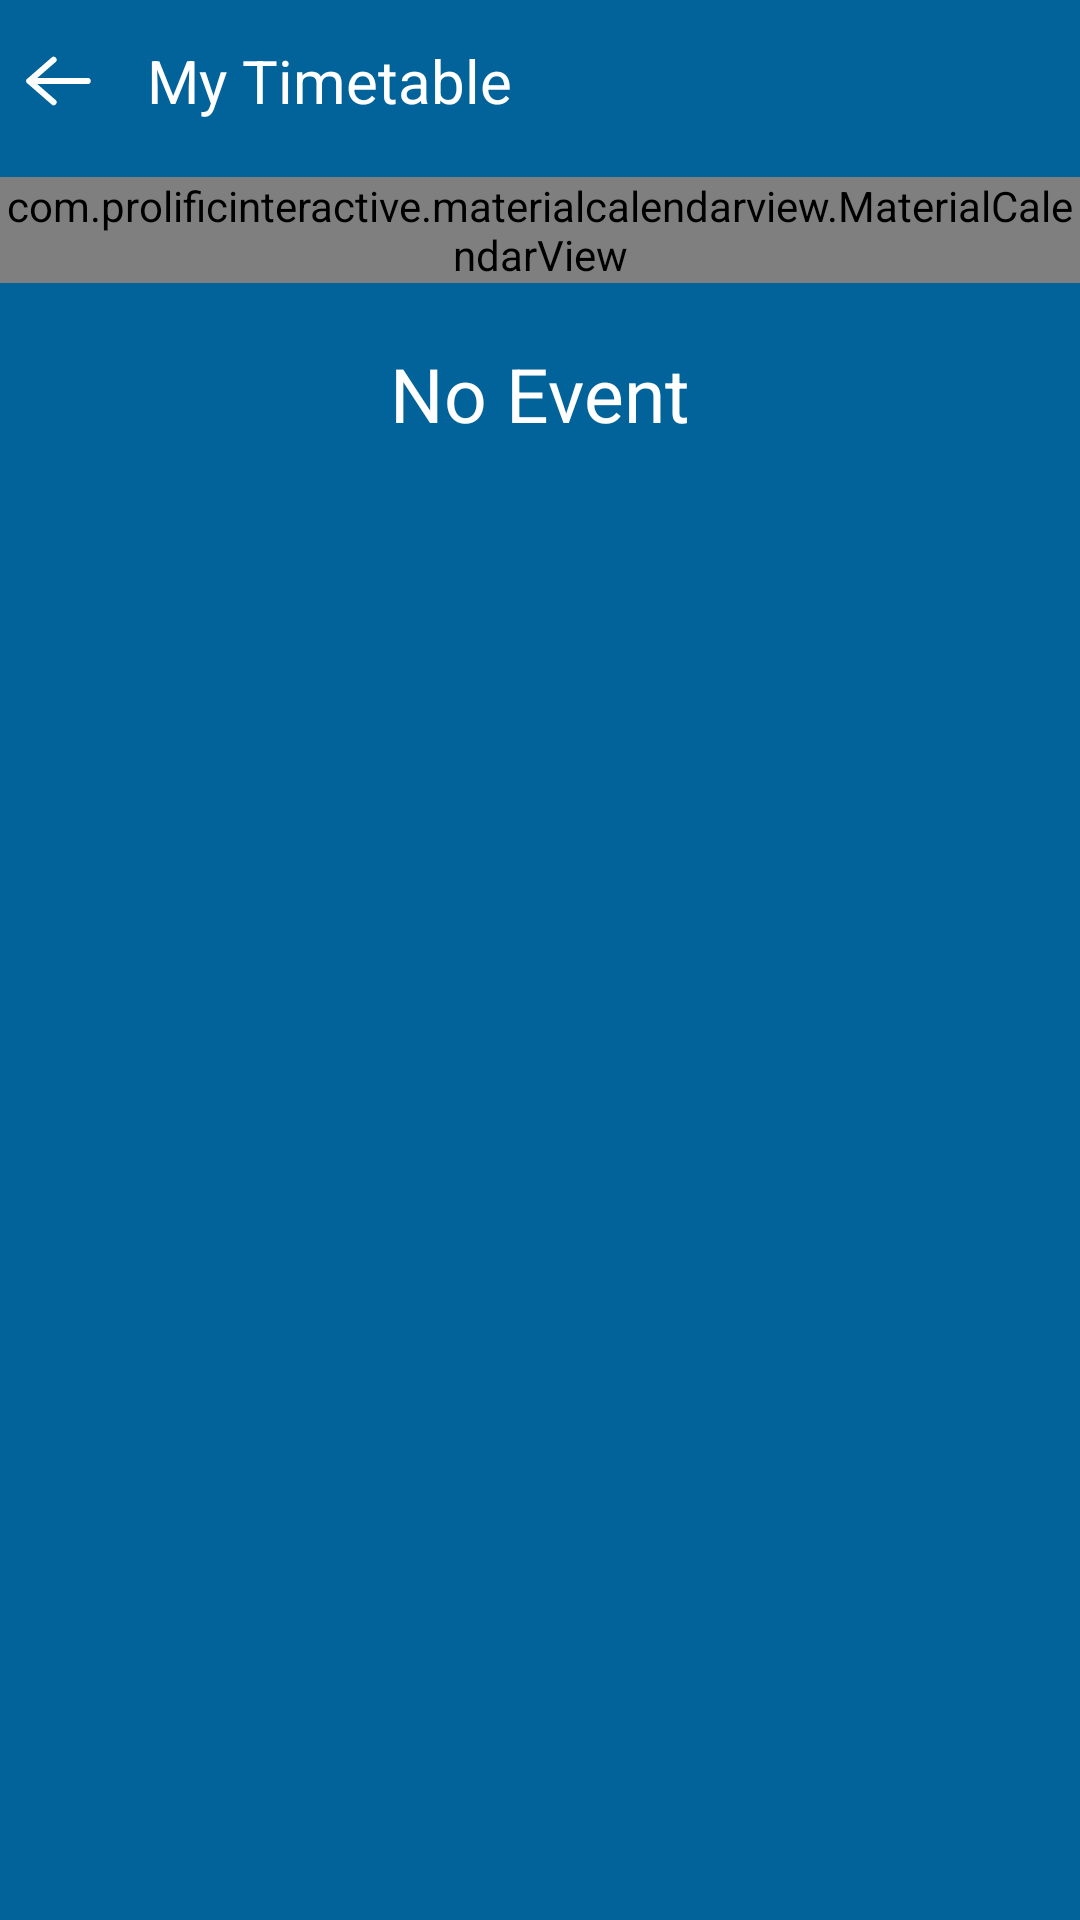

Point at icon controls on the screen. Image size 1080x1920, points as [x,y].
back: [58,81]
